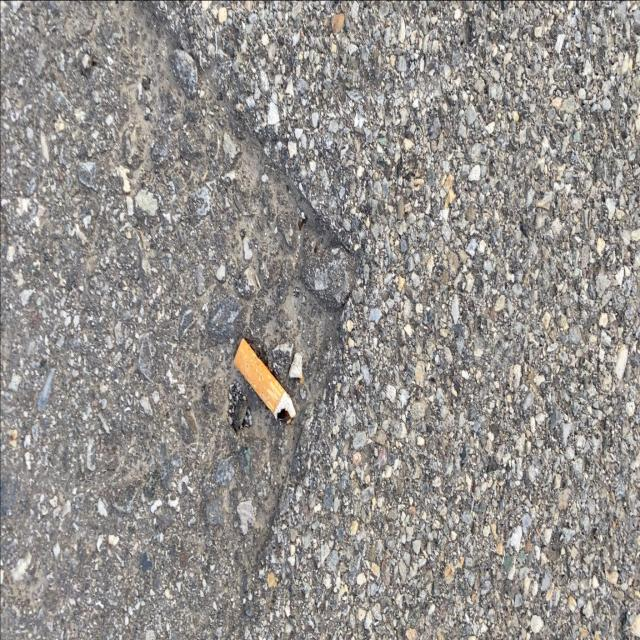other waste: (233, 336, 296, 424)
